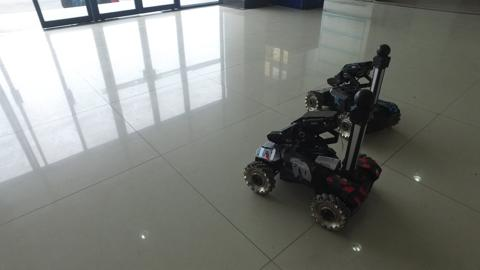chariot: (239, 90, 388, 235), (299, 38, 400, 155)
